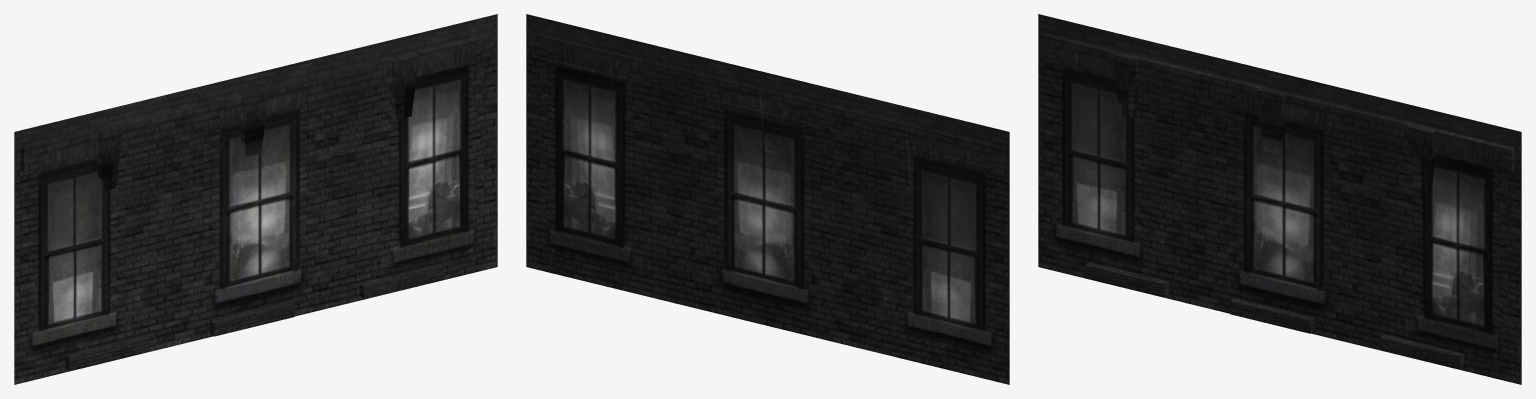
Rendered from floor.obj.
The picture shows the model from 3 angles, left to right: view 1: azimuth 30°, elevation 25°; view 2: azimuth 150°, elevation 25°; view 3: azimuth 330°, elevation 25°; orthographic projection.
Parts seen in each view (by area): view 1: group; view 2: group; view 3: group.
Boxes of the visible parts, x1,y1,x2,y2 form: group: [14, 14, 497, 384]; group: [526, 14, 1009, 384]; group: [1038, 14, 1521, 384].
Size of the model in its own units: 10 by 5 by 0.211.
